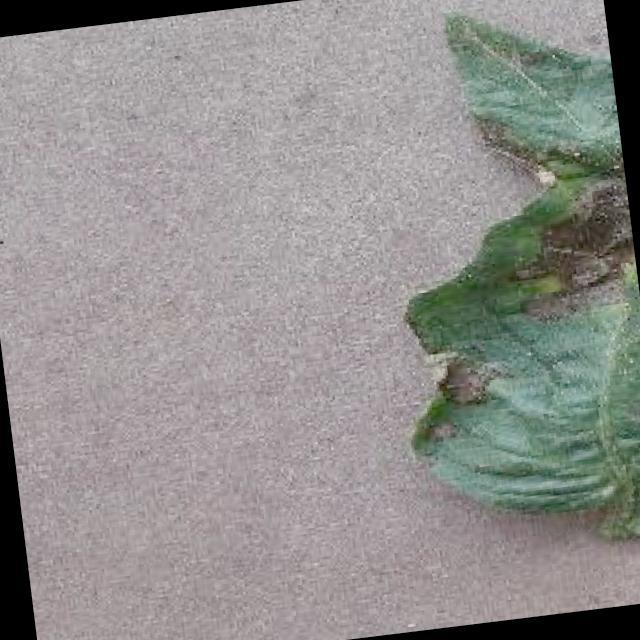Tomato Early blight leaf: (359, 0, 640, 568)
